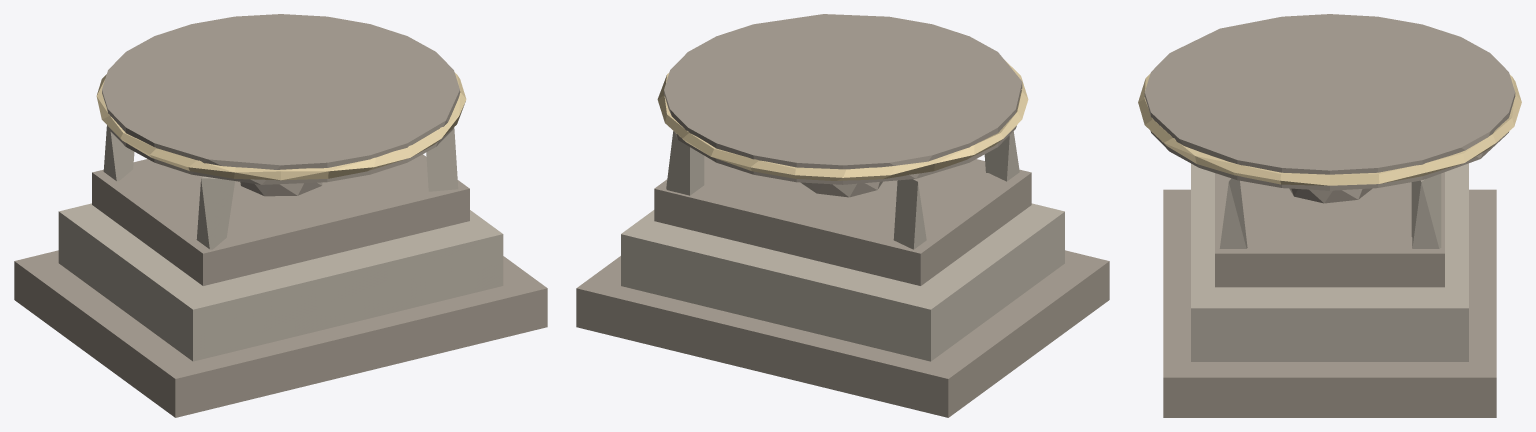
Rendered from 25-Ruinas-Templos_altar_ritual.glb.
The picture shows the model from 3 angles, left to right: view 1: azimuth 30°, elevation 25°; view 2: azimuth 150°, elevation 25°; view 3: azimuth 270°, elevation 25°; orthographic projection. The views are drawn at different scales.
Visible parts, largest first — view 1: SM_Altar_M_Piedra_Altar_Osc, SM_Altar_M_Piedra_Altar, SM_Altar_M_Talla_Altar; view 2: SM_Altar_M_Piedra_Altar_Osc, SM_Altar_M_Piedra_Altar, SM_Altar_M_Talla_Altar; view 3: SM_Altar_M_Piedra_Altar_Osc, SM_Altar_M_Piedra_Altar, SM_Altar_M_Talla_Altar.
Boxes of the visible parts, x1,y1,x2,y2 form: SM_Altar_M_Piedra_Altar_Osc: [14, 14, 547, 417]; SM_Altar_M_Piedra_Altar: [58, 125, 503, 361]; SM_Altar_M_Talla_Altar: [96, 72, 466, 180]; SM_Altar_M_Piedra_Altar_Osc: [576, 14, 1109, 417]; SM_Altar_M_Piedra_Altar: [621, 131, 1064, 361]; SM_Altar_M_Talla_Altar: [657, 60, 1028, 180]; SM_Altar_M_Piedra_Altar_Osc: [1144, 14, 1515, 417]; SM_Altar_M_Piedra_Altar: [1191, 163, 1468, 361]; SM_Altar_M_Talla_Altar: [1138, 73, 1521, 185].
Size of the model in its own units: 1.2 by 0.69 by 1.04.
